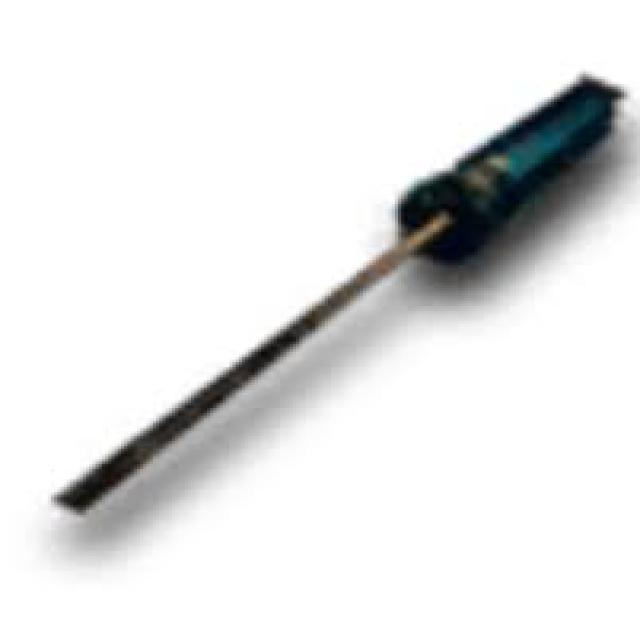screw driver: (15, 26, 640, 545)
